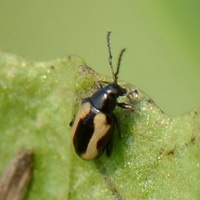insect: (70, 32, 131, 159)
